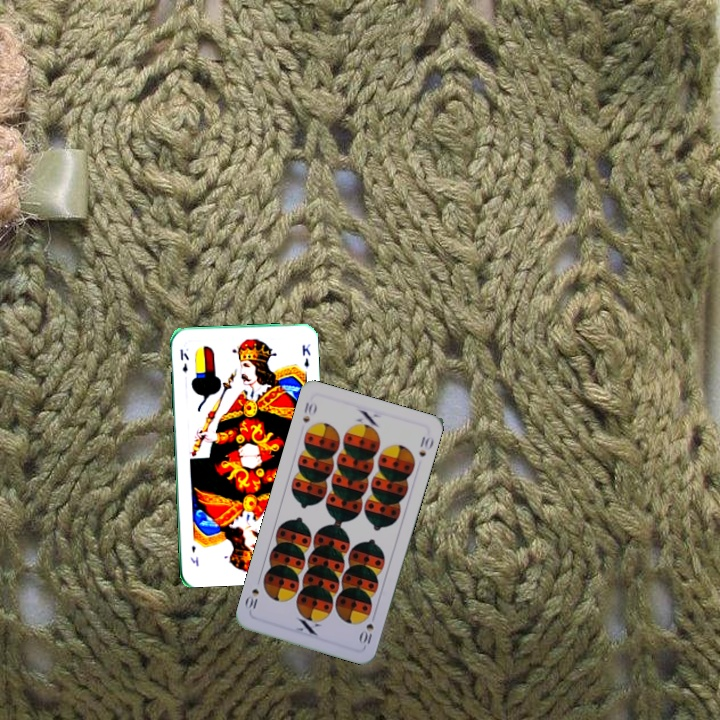EK: (176, 345, 191, 375)
S10: (356, 619, 376, 647), (299, 398, 319, 425)
